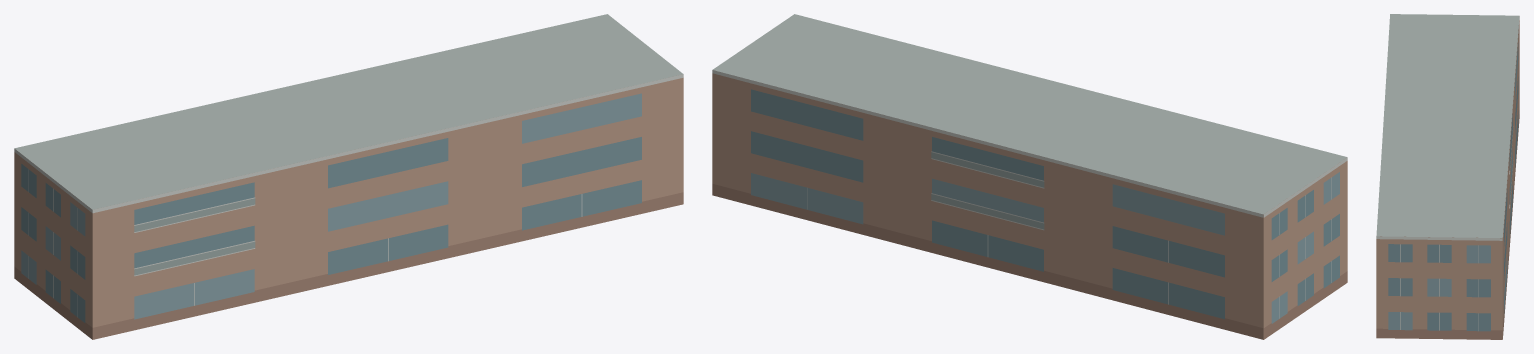
The model's file is survey-upis-32748880.glb.
3 views of the same model, side by side, from view 1: azimuth 30°, elevation 25°; view 2: azimuth 150°, elevation 25°; view 3: azimuth 270°, elevation 25° (orthographic). The views are drawn at different scales.
Parts seen in each view (by area): view 1: survey-upis-32748880.tmp; view 2: survey-upis-32748880.tmp; view 3: survey-upis-32748880.tmp.
Part boxes in pixels (<box>): survey-upis-32748880.tmp: <box>14,14,683,339</box>; survey-upis-32748880.tmp: <box>712,14,1347,339</box>; survey-upis-32748880.tmp: <box>1376,14,1519,339</box>.
Size of the model in its own units: 43.22 by 9.15 by 11.67.
